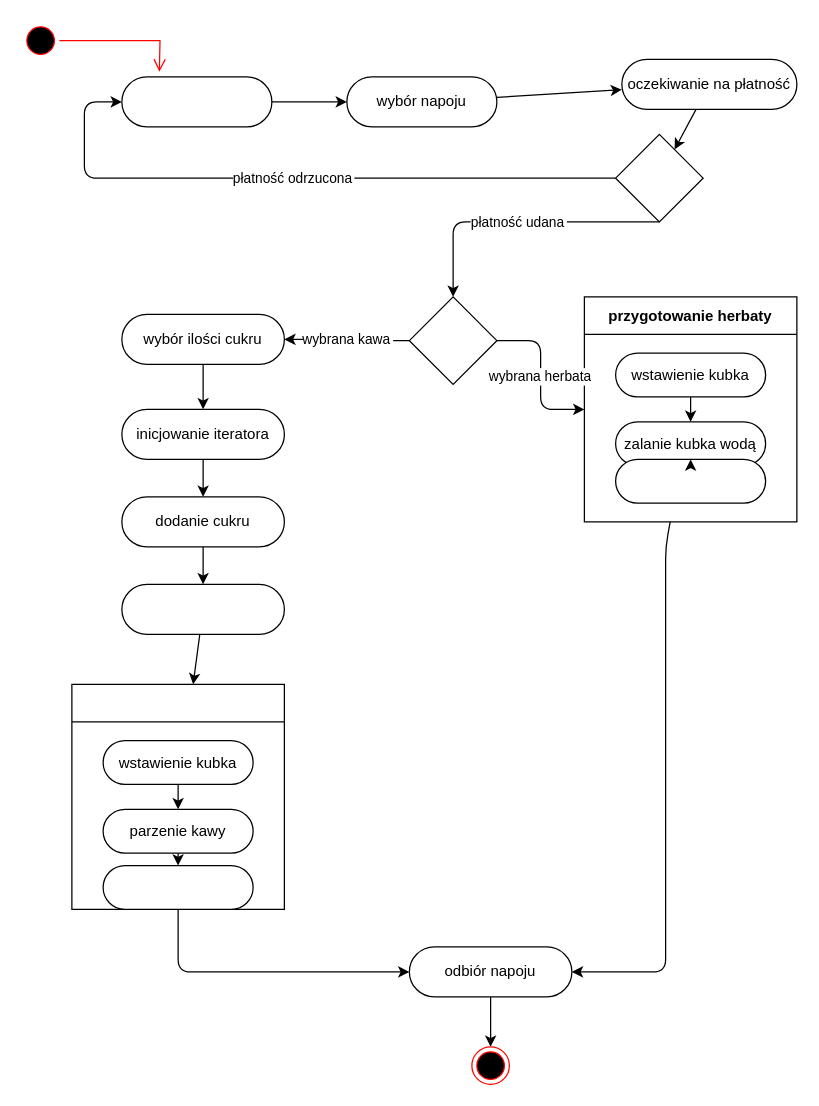
Some shapes in this 819 by 1106 pixel diagram are drawn without their labels. The shapes that lost their labels are listed below. From the top down, each one's box as (x1, y1, x2, y2) in pixels, then its label:
(121, 76, 272, 127): oczekujący
(614, 458, 766, 503): wsypanie herbaty do kubka
(121, 583, 284, 634): operacja na iteratorze
(71, 683, 284, 909): przygotowanie kawy
(102, 864, 253, 909): wlanie kawy do kubka
